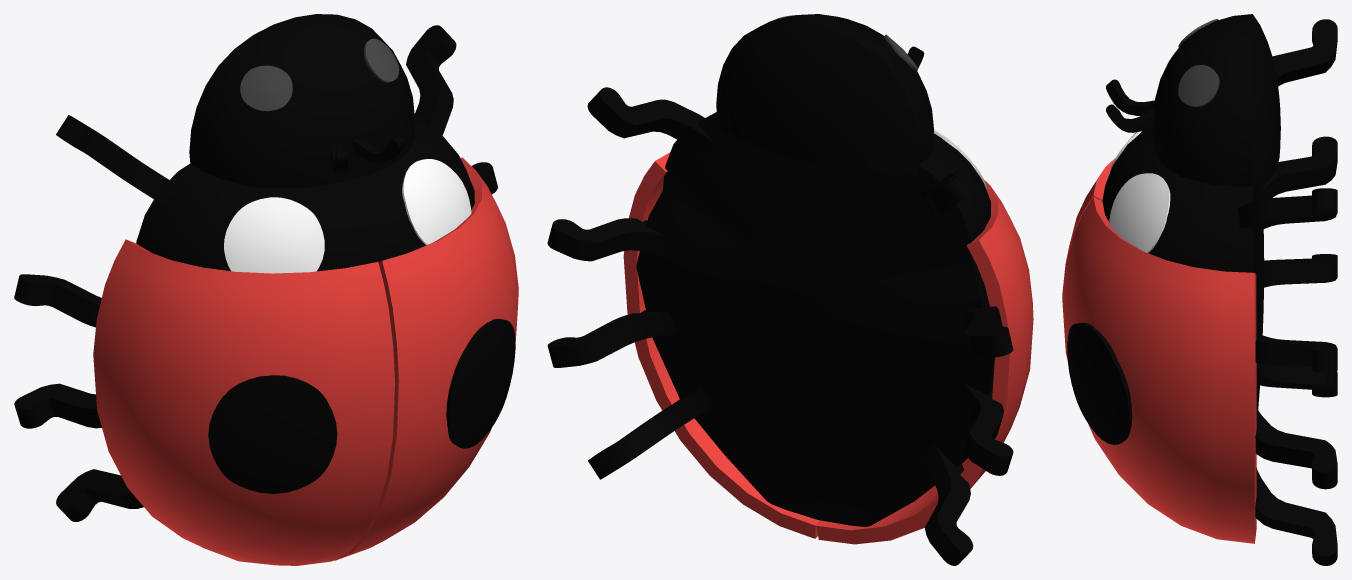
File: lady_beetle.fbx
3 renders of one model, left to right at view 1: azimuth 30°, elevation 25°; view 2: azimuth 150°, elevation 25°; view 3: azimuth 270°, elevation 25°, orthographic. The views are drawn at different scales.
Parts seen in each view (by area): view 1: Sphere.385, Cube.143, Circle.2000, Cube.142, Cube.145, Circle.2001, Circle.1999, Cube.144; view 2: Cube.142, Cube.143, Cube.145, Sphere.385; view 3: Sphere.385, Cube.145, Cube.143, Cube.142, Circle.2000, Circle.2001, Cube.144, Circle.1999.
Part boxes in pixels (x1,y1,x2,y2): Sphere.385: [93, 157, 518, 565]; Cube.143: [189, 14, 415, 188]; Circle.2000: [208, 318, 515, 493]; Cube.142: [136, 116, 474, 271]; Cube.145: [14, 25, 497, 521]; Circle.2001: [224, 159, 471, 273]; Circle.1999: [240, 38, 399, 111]; Cube.144: [331, 136, 405, 173]; Cube.142: [636, 112, 994, 526]; Cube.143: [716, 14, 933, 175]; Cube.145: [547, 87, 1013, 565]; Sphere.385: [623, 152, 1033, 544]; Sphere.385: [1062, 158, 1256, 543]; Cube.145: [1238, 19, 1337, 565]; Cube.143: [1152, 14, 1280, 195]; Cube.142: [1102, 127, 1264, 409]; Circle.2000: [1067, 322, 1132, 444]; Circle.2001: [1109, 131, 1170, 252]; Cube.144: [1106, 79, 1154, 132]; Circle.1999: [1178, 19, 1219, 106].
Bounding box in the file's own units: 199 × 212 × 106.
1 material, 1 textured.
